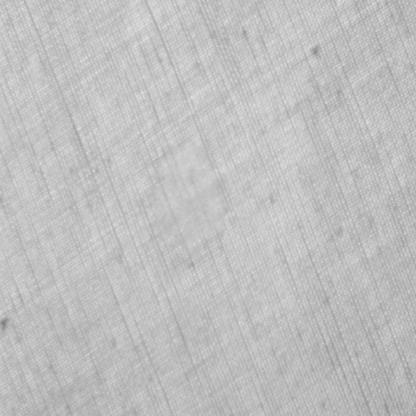oil spot: (145, 137, 230, 247)
